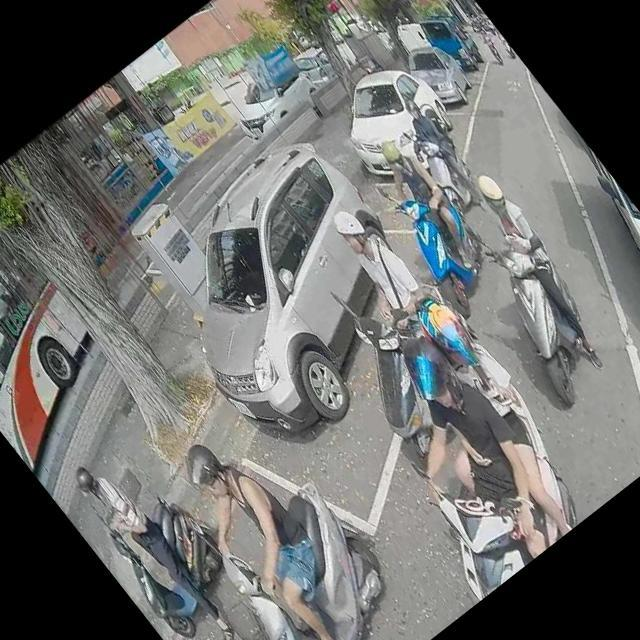person: (365, 289, 603, 559), (342, 331, 580, 592), (150, 416, 384, 640), (447, 163, 627, 376), (66, 447, 240, 640), (310, 197, 450, 356), (354, 123, 491, 281), (393, 91, 497, 213), (476, 27, 490, 43)
